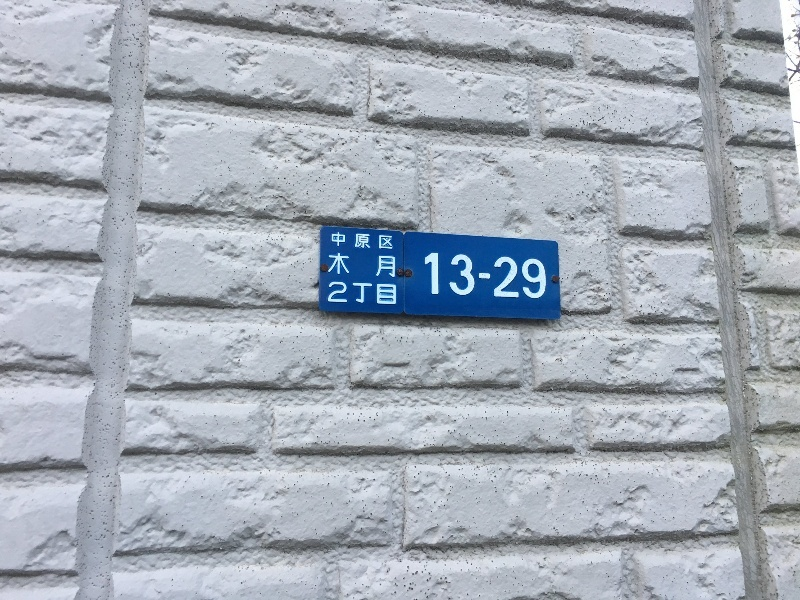text: (433, 251, 448, 300), (449, 251, 464, 300), (465, 251, 480, 300), (481, 251, 496, 300), (497, 251, 512, 300), (513, 251, 528, 300), (529, 251, 544, 300), (337, 251, 352, 279), (353, 251, 368, 279), (369, 251, 384, 279), (424, 251, 432, 300), (337, 280, 352, 306), (353, 280, 368, 306), (369, 280, 384, 306), (385, 280, 397, 306), (385, 251, 396, 279), (337, 231, 352, 251), (353, 231, 368, 251), (369, 231, 384, 251), (329, 251, 336, 279), (329, 280, 336, 306), (385, 231, 393, 251), (545, 251, 547, 300), (332, 231, 336, 251)
